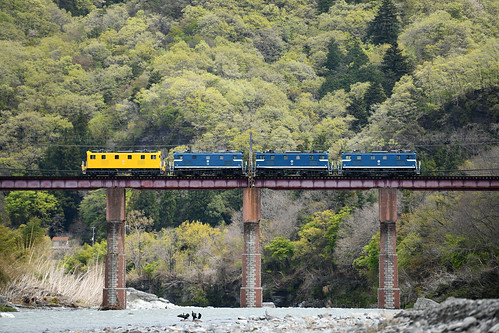bridge: (15, 169, 499, 202)
collumn: (94, 189, 133, 314), (231, 185, 270, 310), (368, 185, 407, 310)
train: (82, 146, 429, 173)
vegetation: (16, 1, 499, 152)
